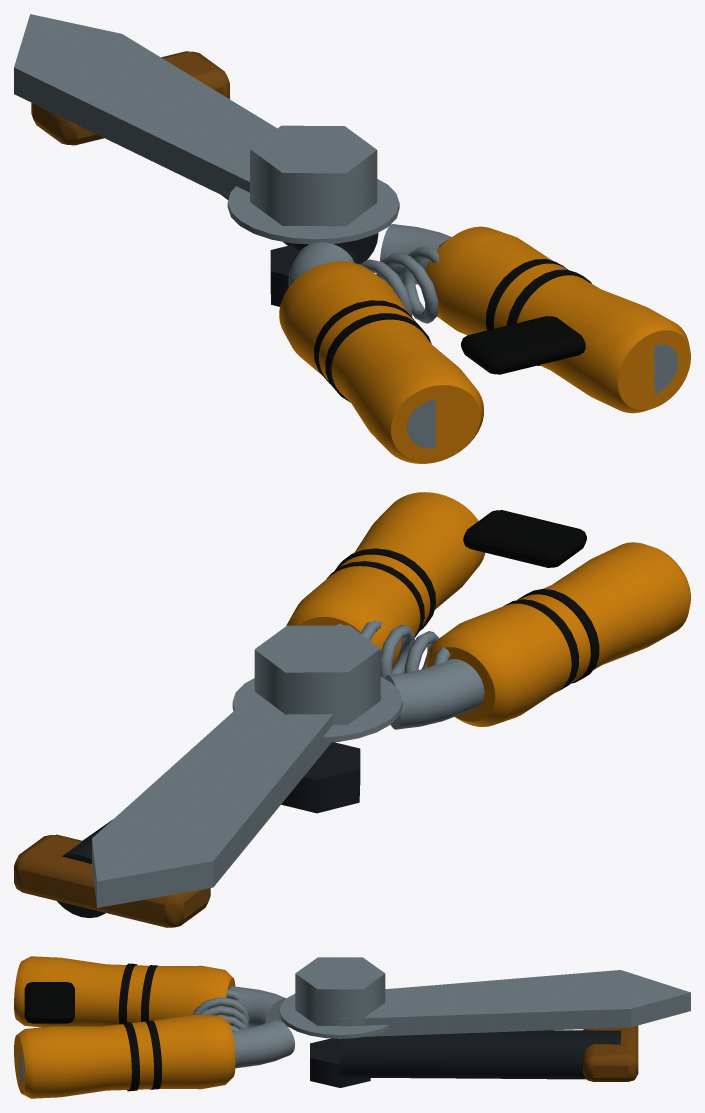
File: AnvilPruners.gltf
3 views of the same model, one above another, from view 1: azimuth 30°, elevation 25°; view 2: azimuth 150°, elevation 25°; view 3: azimuth 270°, elevation 25° (orthographic). The views are drawn at different scales.
Parts seen in each view (by area): view 1: AnvilPruners__Body; view 2: AnvilPruners__Body; view 3: AnvilPruners__Body.
Boxes of the visible parts, box(x1,y1,x2,y2) form: AnvilPruners__Body: box(14, 14, 690, 463); AnvilPruners__Body: box(14, 492, 690, 927); AnvilPruners__Body: box(14, 956, 690, 1098).
Size of the model in its own units: 0.0755 by 0.0336 by 0.2054.
Materials: 1 (1 with a texture image).
